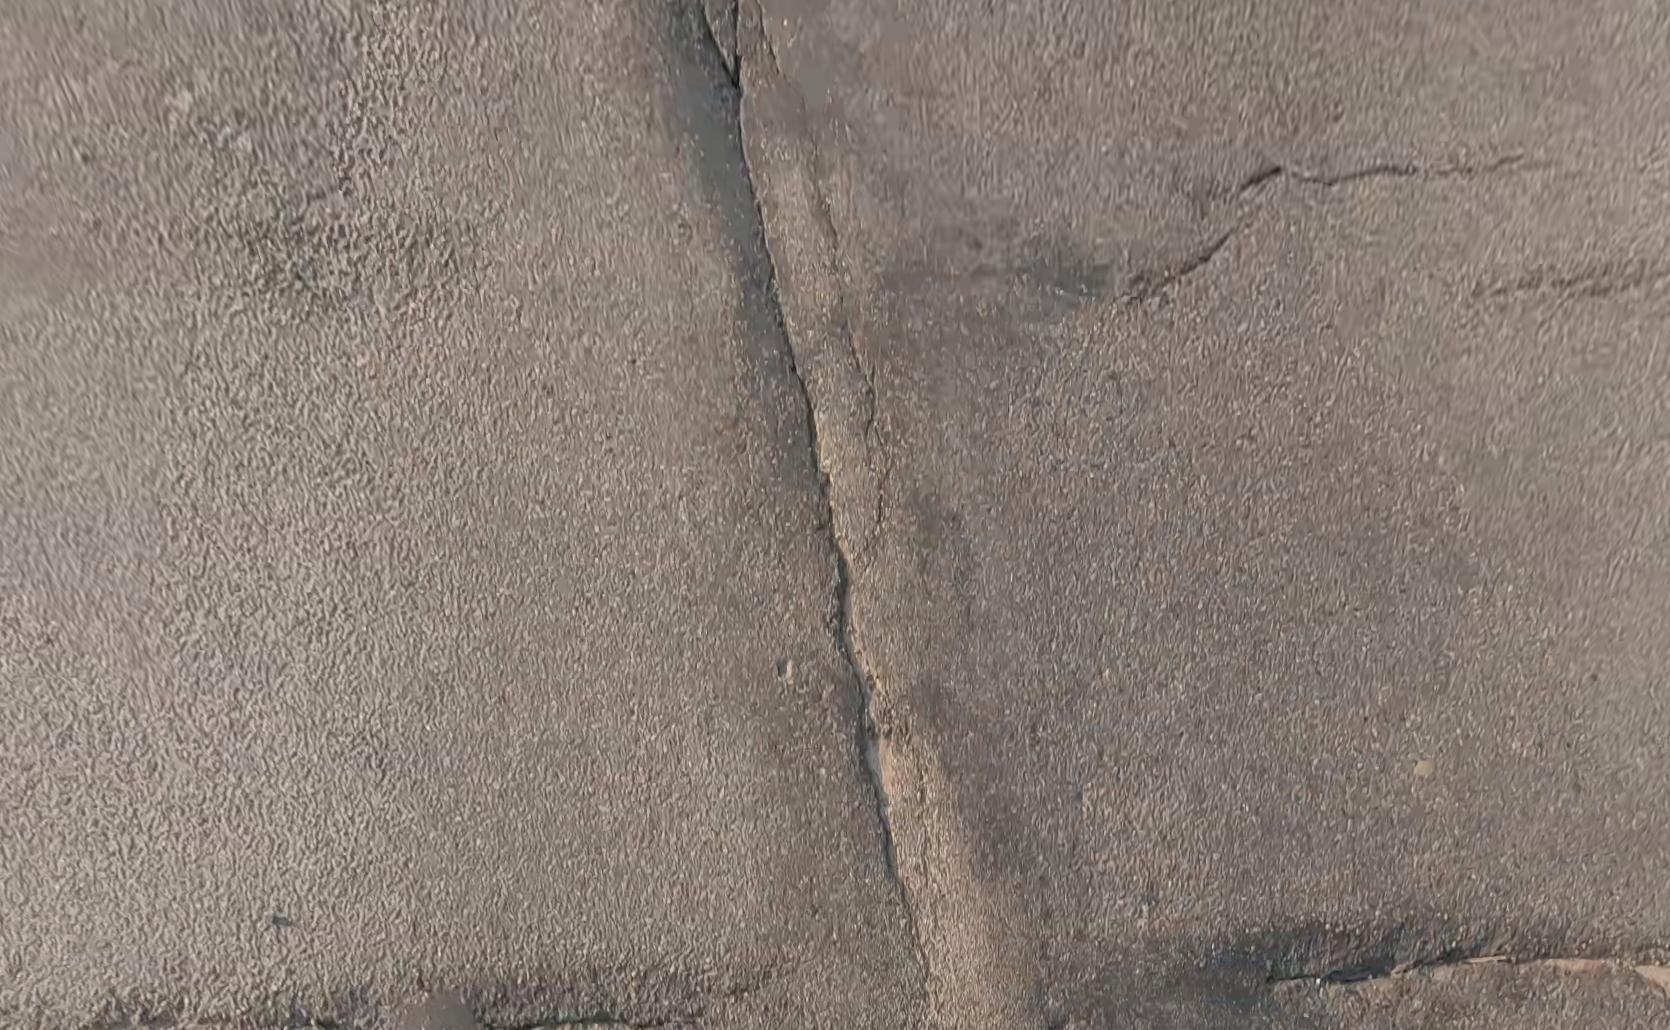pothole_patch_poor: (636, 0, 1108, 1030), (1053, 915, 1670, 1030), (0, 952, 834, 1030)
